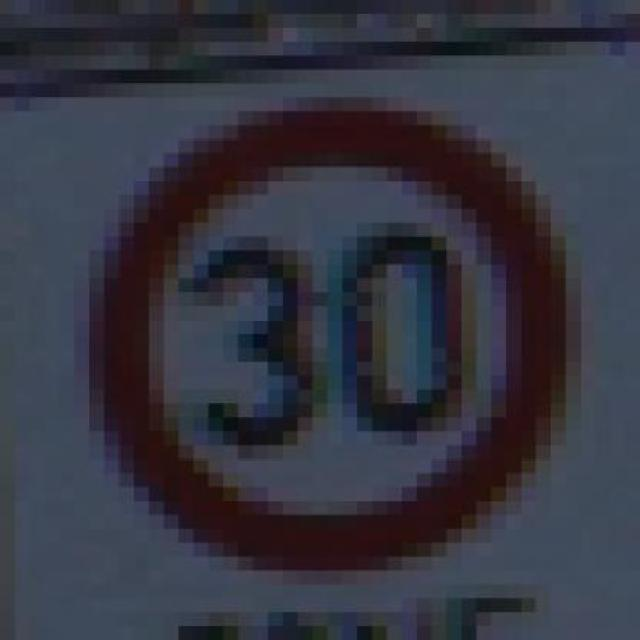Speed Limit 30 KMPh: (45, 110, 610, 584)
